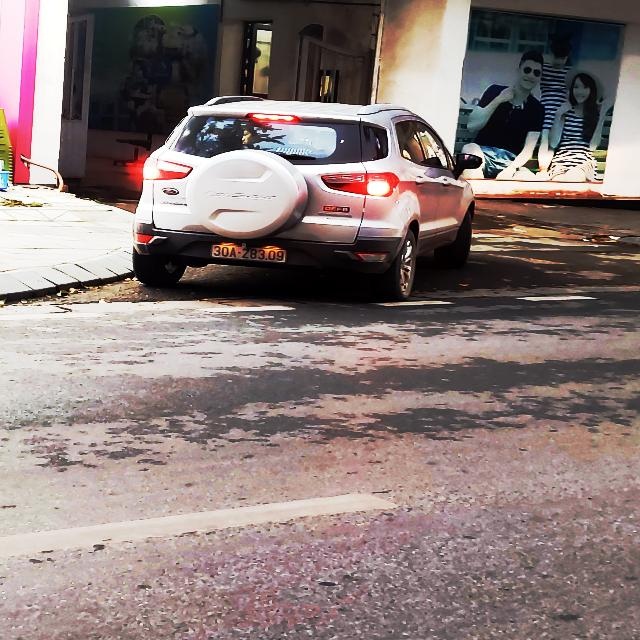license_plate: (209, 243, 290, 267)
